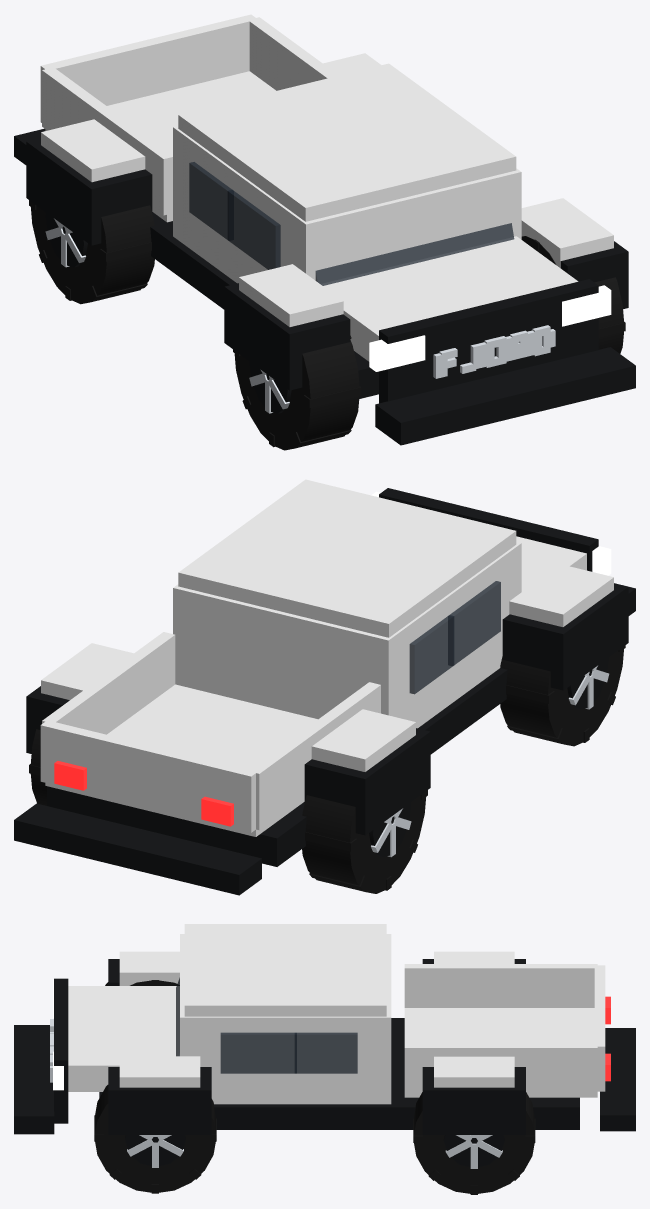
The model's file is fjord-razorback.glb.
The picture shows the model from 3 angles, top to bottom: view 1: azimuth 30°, elevation 25°; view 2: azimuth 150°, elevation 25°; view 3: azimuth 270°, elevation 25°; orthographic projection. The views are drawn at different scales.
Visible parts, largest first — view 1: chassis, wheel-front-left, wheel-back-left, glass, wheel-front-right; view 2: chassis, wheel-back-left, wheel-front-left, wheel-back-right; view 3: chassis, wheel-back-right, wheel-front-right.
Part boxes in pixels (left/top/right/bottom): chassis: left=14, top=14, right=635, bottom=445; wheel-front-left: left=233, top=335, right=361, bottom=450; wheel-back-left: left=29, top=200, right=154, bottom=304; glass: left=315, top=223, right=514, bottom=285; wheel-front-right: left=521, top=236, right=625, bottom=353; chassis: left=14, top=479, right=635, bottom=895; wheel-back-left: left=302, top=790, right=427, bottom=893; wheel-front-left: left=500, top=645, right=625, bottom=746; wheel-back-right: left=29, top=729, right=46, bottom=805; chassis: left=14, top=924, right=635, bottom=1134; wheel-back-right: left=413, top=1092, right=535, bottom=1194; wheel-front-right: left=94, top=1085, right=216, bottom=1193.
Bounding box in the file's own units: 3.46 × 2.06 × 6.92.
